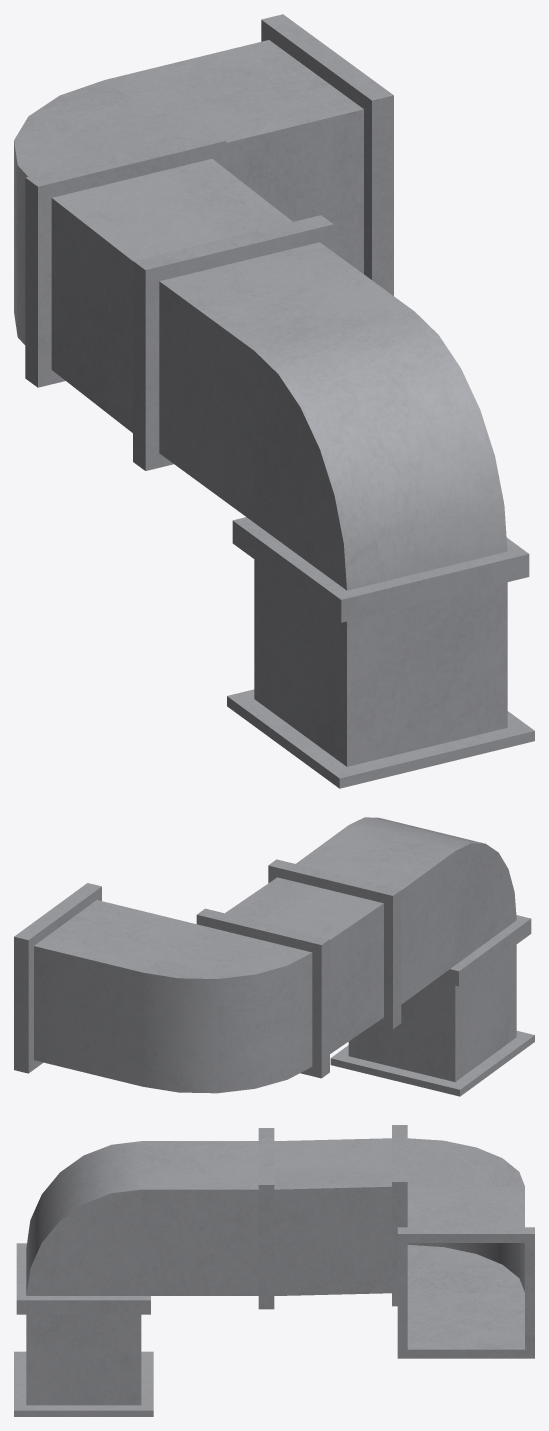
Rendered from VentGoingThroughRoomMirrored.glb.
3 renders of one model, top to bottom at view 1: azimuth 30°, elevation 25°; view 2: azimuth 150°, elevation 25°; view 3: azimuth 270°, elevation 25°, orthographic. The views are drawn at different scales.
Visible parts, largest first — view 1: Plane.001; view 2: Plane.001; view 3: Plane.001.
Boxes of the visible parts, x1,y1,x2,y2 form: Plane.001: (14, 14, 534, 788); Plane.001: (14, 817, 534, 1096); Plane.001: (14, 1125, 534, 1416).
Size of the model in its own units: 3.32 by 3.29 by 6.65.
Materials: 1 (1 with a texture image).
